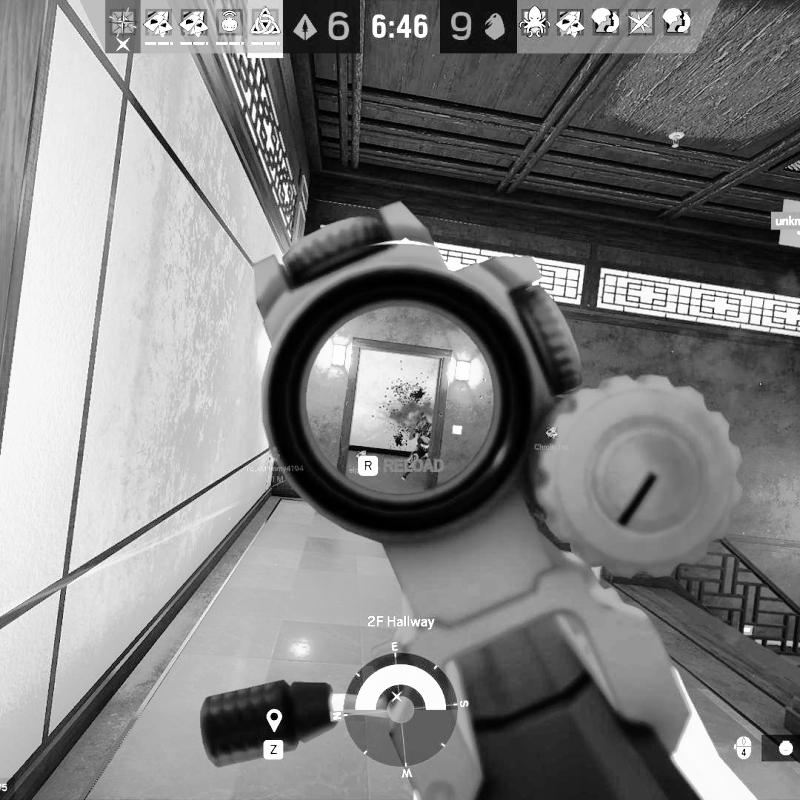Character: (401, 410, 434, 479)
Friend_label: (534, 426, 570, 452), (347, 449, 368, 474)
Head: (414, 413, 427, 426)
